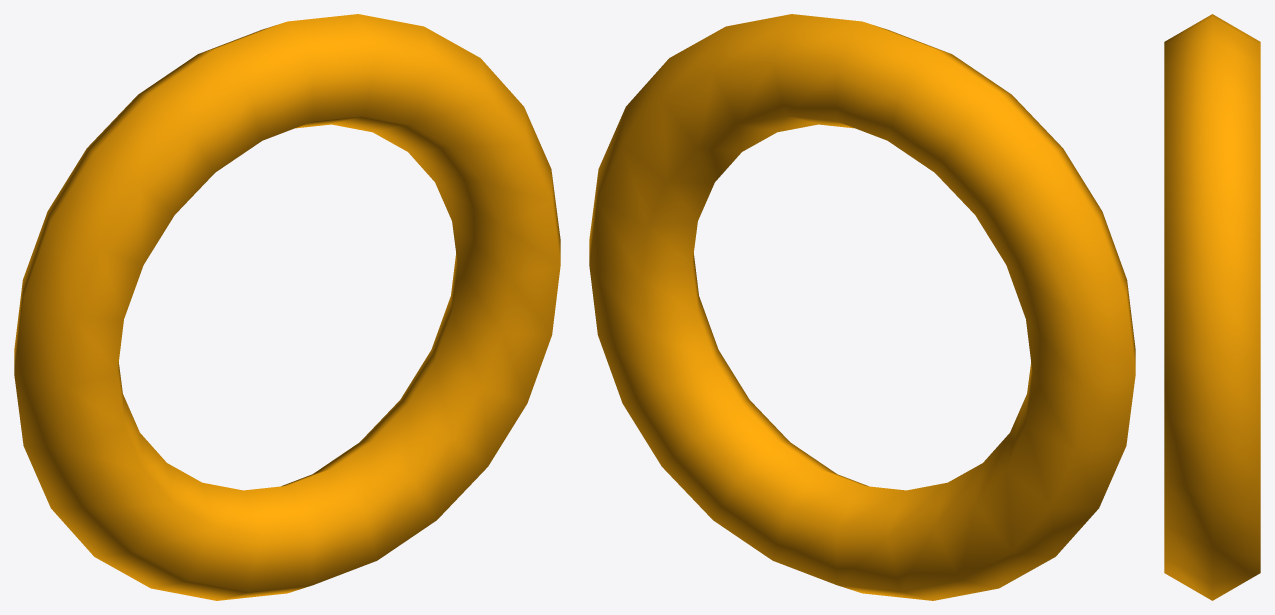
File: ring_001.fbx
3 renders of one model, left to right at view 1: azimuth 30°, elevation 25°; view 2: azimuth 150°, elevation 25°; view 3: azimuth 270°, elevation 25°, orthographic. The views are drawn at different scales.
Visible parts, largest first — view 1: ring_001; view 2: ring_001; view 3: ring_001.
Boxes of the visible parts, x1,y1,x2,y2 form: ring_001: (14, 14, 560, 600); ring_001: (589, 14, 1135, 600); ring_001: (1164, 14, 1260, 600).
Size of the model in its own units: 96.95 by 15.88 by 96.95.
